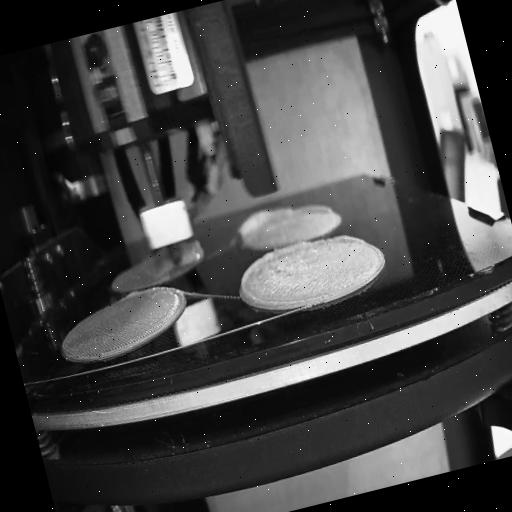over_extrusion: (232, 242, 311, 323), (230, 202, 302, 244), (298, 196, 336, 222), (330, 226, 367, 252), (123, 288, 142, 300)
